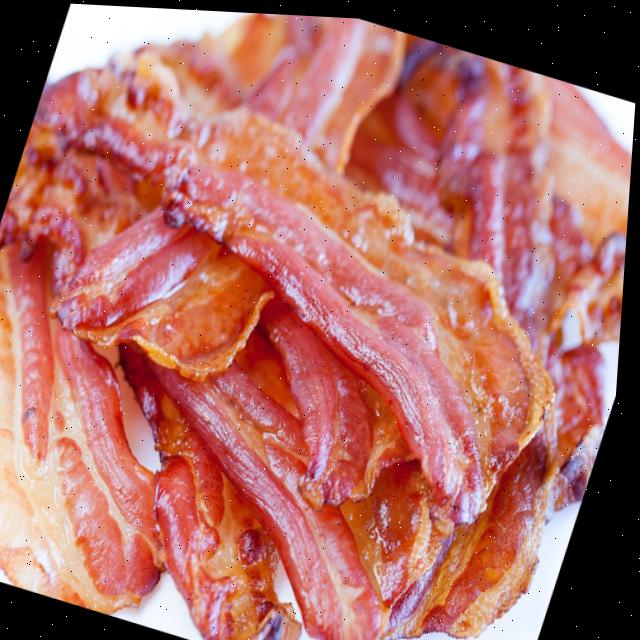Bacon: (165, 104, 558, 517), (149, 358, 392, 640), (0, 244, 168, 611), (404, 42, 558, 343)
